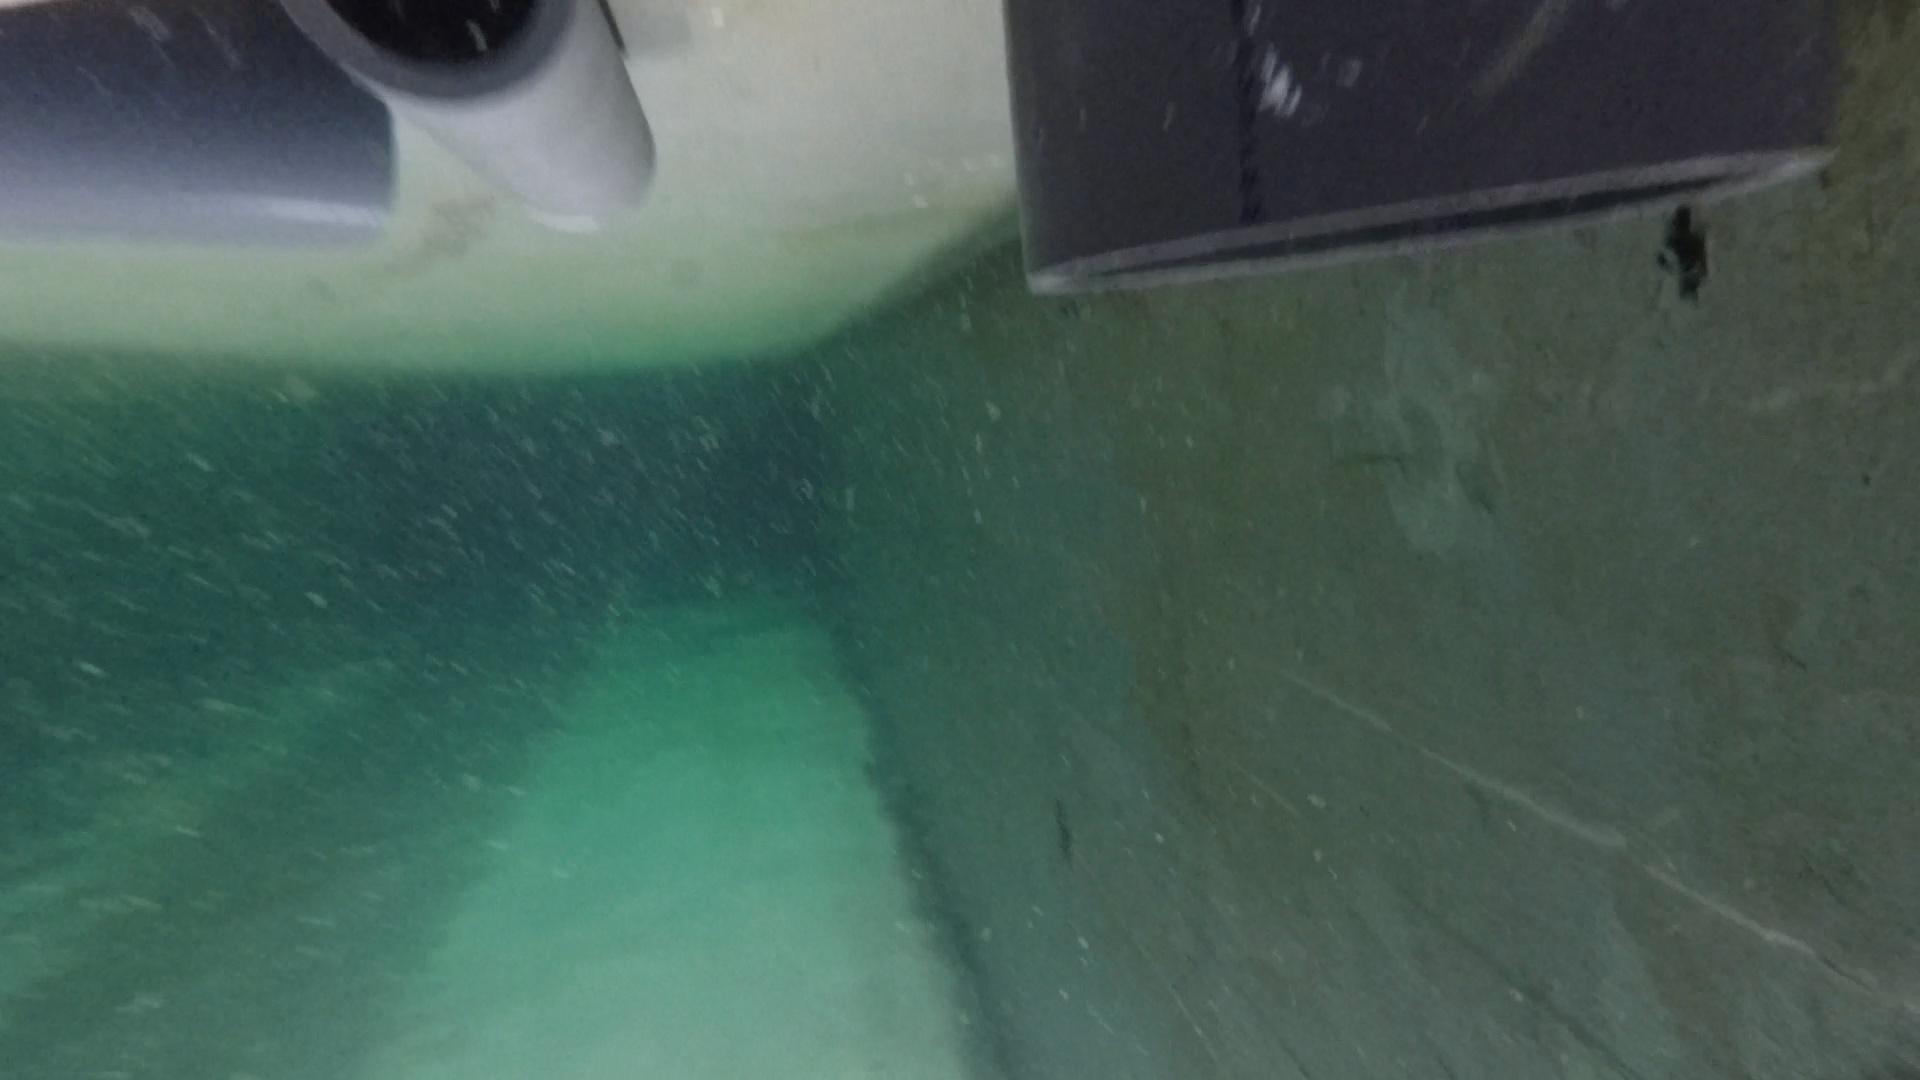pipe: (1004, 1, 1844, 301), (1, 3, 396, 255), (284, 1, 658, 233)
